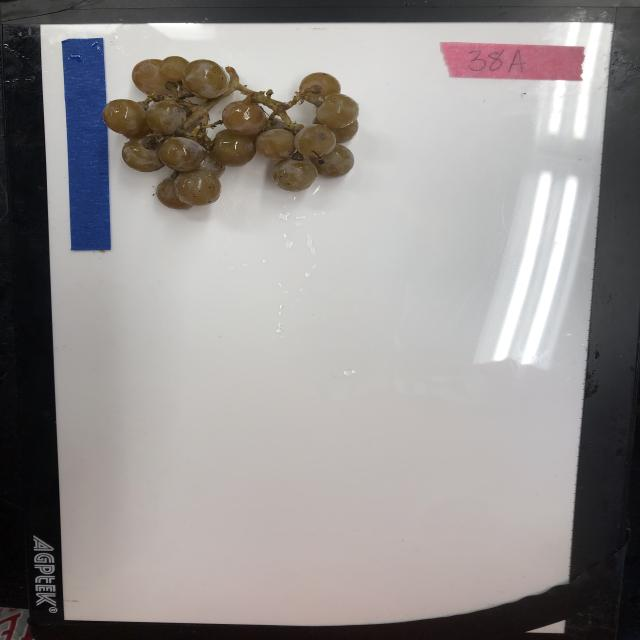grape_cluster: (105, 53, 363, 220)
index: (438, 38, 587, 84)
measure_label: (59, 36, 118, 255)
